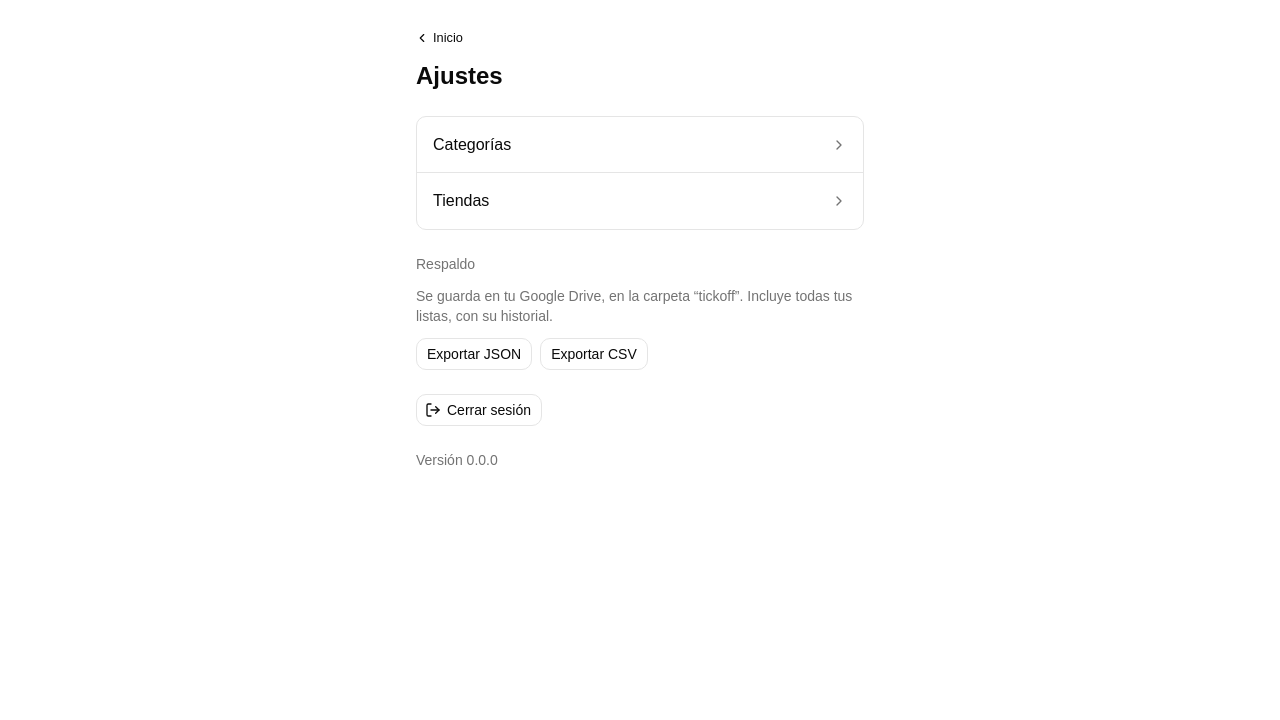
Scenario: offline, goes straight to the download without asking Google
Click the button "Exportar JSON": click(474, 354) [416, 338, 532, 370]
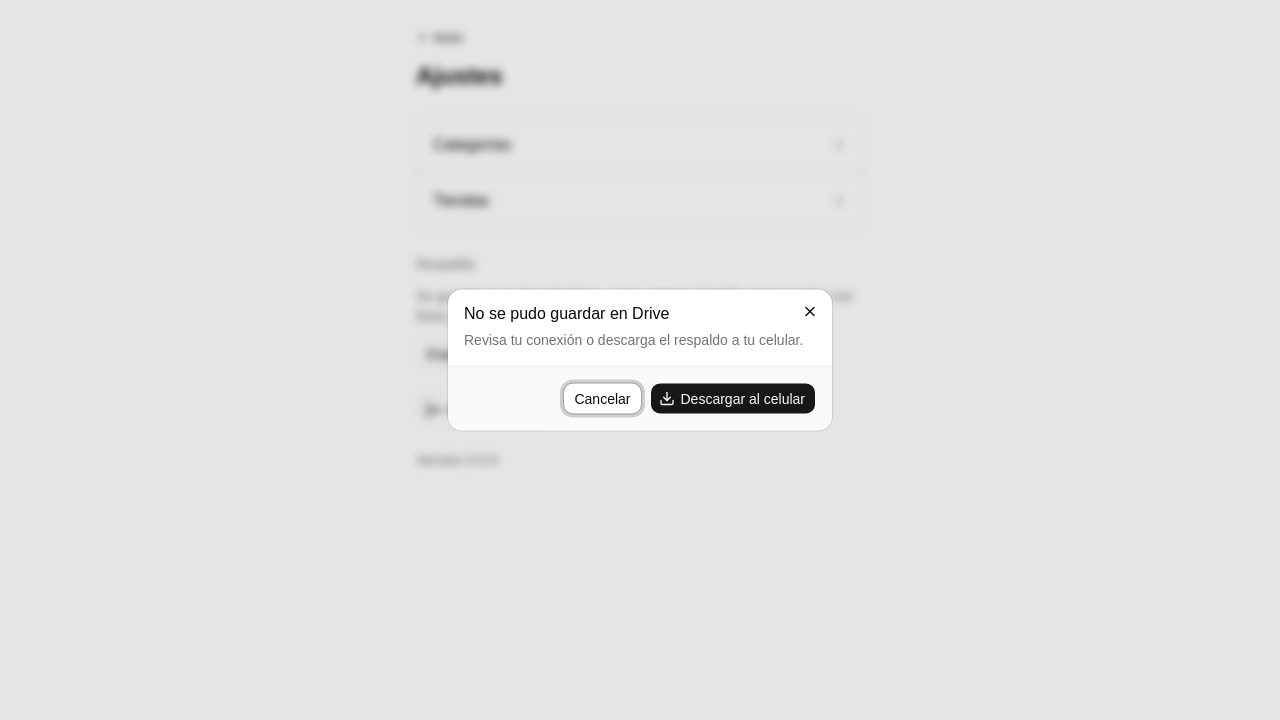
Check: the heading "No se pudo guardar en Drive" is shown, box [464, 304, 670, 322]
